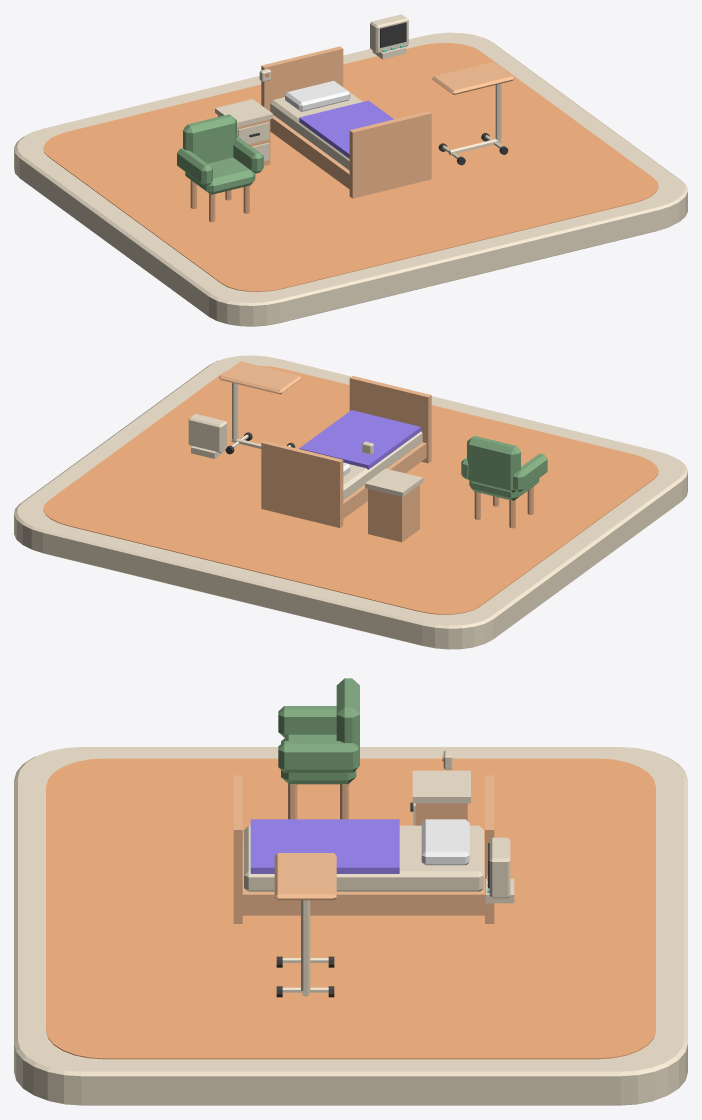
Rendered from room.fbx.
3 views of the same model, one above another, from view 1: azimuth 30°, elevation 25°; view 2: azimuth 150°, elevation 25°; view 3: azimuth 270°, elevation 25° (orthographic). The views are drawn at different scales.
Parts seen in each view (by area): view 1: COM-02 Floor Surface, COM-01 Rounded Base Direct, End board, End board.001, Blanket, Back, Mattress, Table top, Frame, Cushion, Pillow, Top (+5 smaller); view 2: COM-02 Floor Surface, COM-01 Rounded Base Direct, End board.001, Blanket, End board, Body, Back, Table top, Housing, Mattress, Frame, Top (+2 smaller); view 3: COM-02 Floor Surface, COM-01 Rounded Base Direct, Blanket, Mattress, Frame, Table top, Arm.001, Pillow, Top, Arm, Back, End board (+5 smaller).
Part boxes in pixels (left/top/right/bottom): COM-02 Floor Surface: left=43, top=43, right=658, bottom=291; COM-01 Rounded Base Direct: left=14, top=32, right=687, bottom=326; End board: left=349, top=111, right=431, bottom=198; End board.001: left=261, top=46, right=343, bottom=132; Blanket: left=299, top=100, right=393, bottom=158; Back: left=183, top=114, right=236, bottom=163; Mattress: left=270, top=85, right=362, bottom=170; Table top: left=432, top=62, right=514, bottom=94; Frame: left=270, top=115, right=349, bottom=189; Cushion: left=185, top=157, right=255, bottom=194; Pillow: left=285, top=81, right=350, bottom=111; Top: left=215, top=99, right=273, bottom=127; COM-02 Floor Surface: left=43, top=365, right=658, bottom=614; COM-01 Rounded Base Direct: left=14, top=355, right=687, bottom=649; End board.001: left=261, top=440, right=343, bottom=527; Blanket: left=299, top=410, right=420, bottom=469; End board: left=349, top=376, right=431, bottom=463; Body: left=368, top=485, right=419, bottom=542; Back: left=467, top=435, right=520, bottom=492; Table top: left=219, top=361, right=301, bottom=394; Housing: left=188, top=414, right=226, bottom=452; Mattress: left=343, top=431, right=422, bottom=499; Frame: left=343, top=442, right=426, bottom=518; Top: left=365, top=468, right=423, bottom=497; COM-02 Floor Surface: left=46, top=758, right=655, bottom=1059; COM-01 Rounded Base Direct: left=14, top=747, right=687, bottom=1105; Blanket: left=250, top=819, right=399, bottom=873; Mattress: left=244, top=825, right=483, bottom=891; Frame: left=242, top=842, right=484, bottom=915; Table top: left=274, top=853, right=336, bottom=900; Arm.001: left=278, top=741, right=358, bottom=772; Pillow: left=421, top=819, right=469, bottom=865; Top: left=412, top=770, right=470, bottom=803; Arm: left=278, top=706, right=336, bottom=737; Back: left=336, top=678, right=359, bottom=765; End board: left=233, top=775, right=242, bottom=923.
Size of the model in its own units: 600 by 135 by 520.
